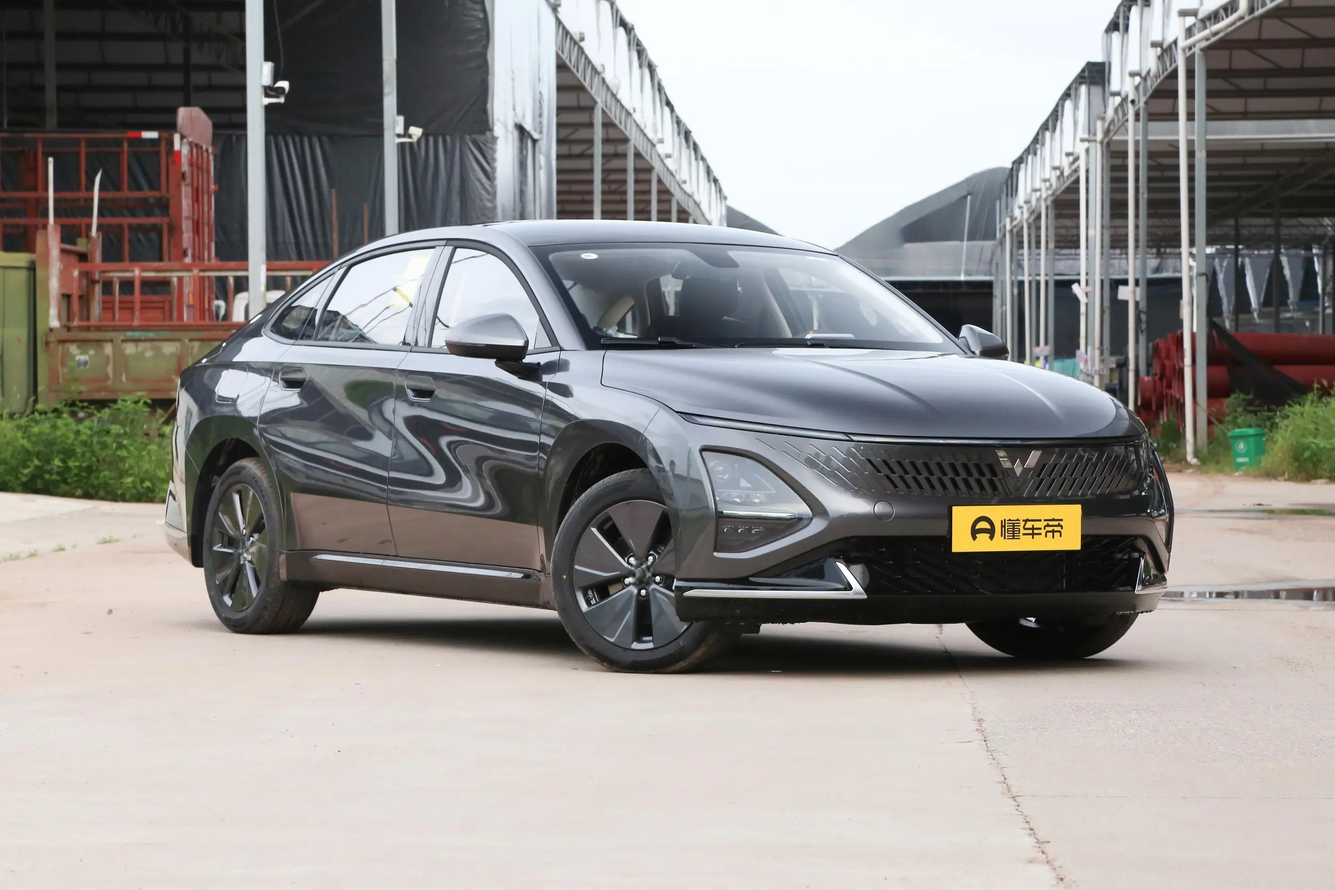SGMW: (995, 450, 1041, 476)
